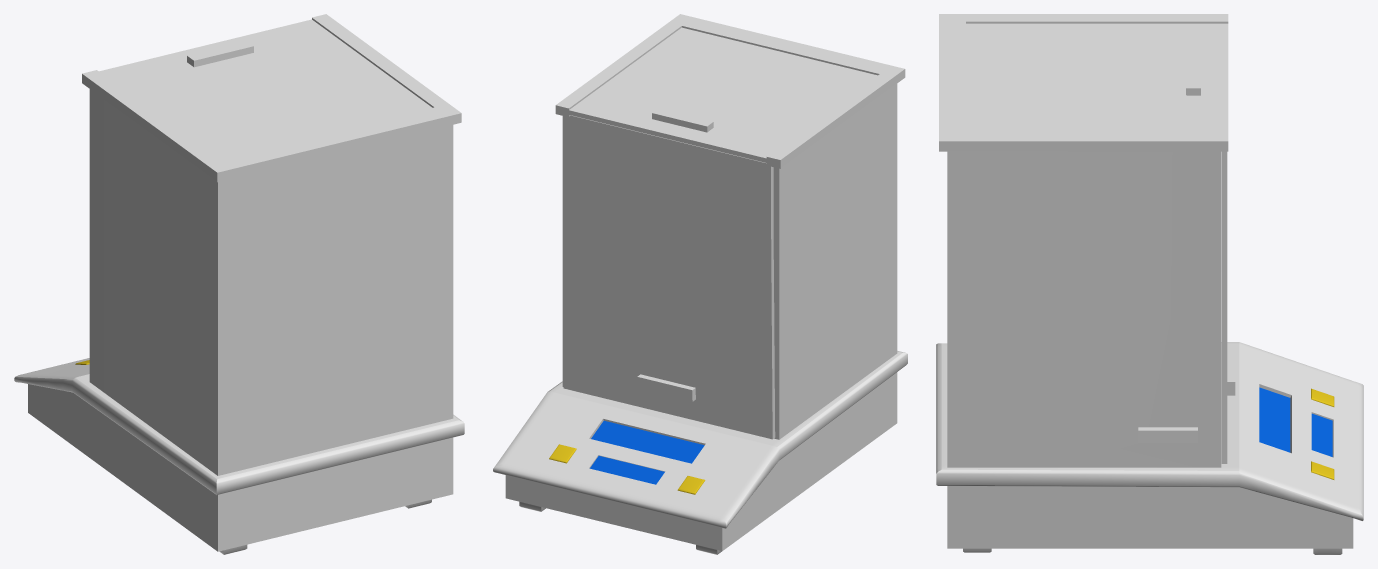
The model's file is Neraca analitik.fbx.
The picture shows the model from 3 angles, left to right: view 1: azimuth 30°, elevation 25°; view 2: azimuth 150°, elevation 25°; view 3: azimuth 270°, elevation 25°; orthographic projection. The views are drawn at different scales.
Parts seen in each view (by area): view 1: Cube, Cube.001; view 2: Cube, Cube.002, Cube.001; view 3: Cube, Cube.001, Cube.002.
Part boxes in pixels (bbox=[...]): Cube: bbox=[14, 14, 464, 554]; Cube.001: bbox=[99, 19, 432, 159]; Cube: bbox=[493, 14, 907, 554]; Cube.002: bbox=[563, 115, 775, 439]; Cube.001: bbox=[563, 27, 877, 164]; Cube: bbox=[936, 14, 1363, 554]; Cube.001: bbox=[966, 23, 1228, 133]; Cube.002: bbox=[1221, 151, 1235, 463].
Size of the model in its own units: 215 by 325 by 294.
